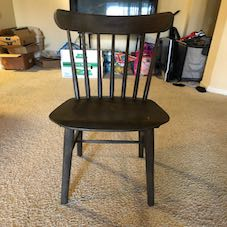chair: (35, 2, 178, 210)
